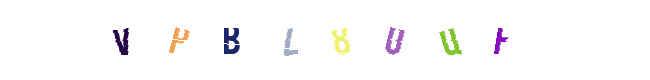0: (323, 0, 403, 80)
8: (305, 0, 385, 80)
B: (258, 0, 338, 80)
F: (459, 0, 539, 80)
P: (140, 0, 220, 80)
Q: (410, 0, 490, 80)
V: (138, 0, 218, 80)
Z: (285, 0, 365, 80)
